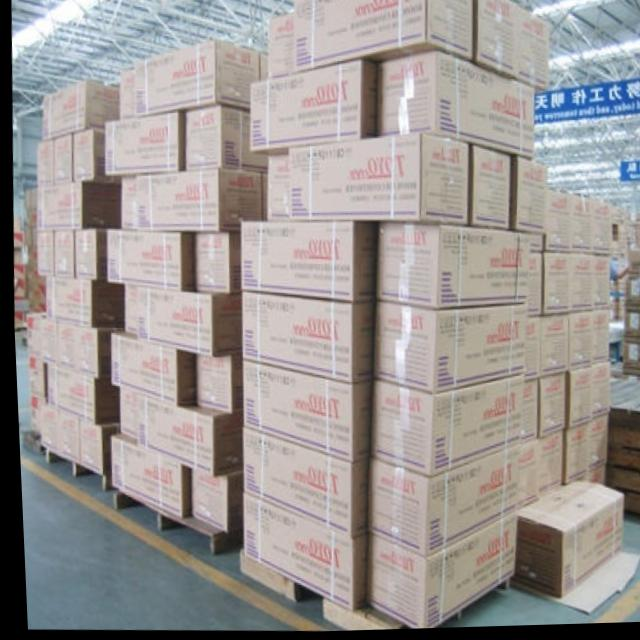box: (373, 53, 534, 162), (359, 515, 510, 631), (286, 133, 467, 228), (362, 450, 516, 559), (236, 492, 363, 612), (366, 380, 521, 477), (370, 302, 525, 395), (236, 430, 366, 539), (509, 482, 621, 601), (372, 225, 528, 309), (238, 362, 368, 462), (294, 0, 471, 71), (238, 292, 372, 385), (248, 61, 375, 157), (238, 221, 373, 303), (133, 39, 258, 117), (133, 395, 238, 476), (134, 170, 259, 234), (472, 0, 550, 97), (134, 287, 238, 358), (106, 432, 186, 520), (106, 330, 192, 405), (184, 106, 265, 174), (102, 112, 184, 178), (104, 229, 193, 288), (40, 80, 119, 139), (43, 361, 116, 423), (34, 182, 119, 230), (42, 276, 121, 326), (53, 320, 120, 377), (466, 146, 508, 234), (186, 467, 236, 532), (508, 158, 546, 237), (601, 448, 640, 523), (192, 353, 239, 413), (71, 128, 120, 185), (193, 234, 236, 292), (37, 400, 75, 461), (76, 418, 115, 475), (605, 398, 640, 455), (537, 254, 568, 318), (560, 368, 591, 432), (534, 376, 562, 444), (71, 229, 104, 282), (558, 426, 586, 488), (537, 318, 564, 379), (267, 14, 293, 77), (564, 313, 591, 372), (543, 193, 568, 255), (534, 436, 559, 498), (513, 444, 535, 514), (24, 310, 53, 363), (567, 256, 591, 316), (265, 157, 286, 222), (568, 197, 590, 257), (582, 419, 603, 475), (590, 204, 610, 259), (517, 384, 534, 444), (590, 258, 608, 313), (605, 381, 640, 409), (116, 388, 134, 439), (522, 319, 536, 384), (590, 313, 607, 366), (589, 366, 605, 422), (52, 135, 70, 184), (52, 230, 71, 276), (117, 69, 134, 118), (33, 231, 51, 276), (526, 256, 539, 318), (119, 176, 134, 229), (34, 139, 51, 185), (619, 344, 640, 379), (25, 356, 40, 400), (622, 280, 640, 315), (121, 287, 134, 335), (621, 315, 640, 345), (21, 187, 34, 226), (25, 395, 37, 435), (26, 277, 40, 310), (11, 264, 24, 298), (624, 252, 640, 279), (580, 472, 601, 487), (259, 176, 265, 220), (258, 51, 267, 80), (527, 237, 540, 254), (11, 231, 20, 250), (11, 250, 20, 264)
